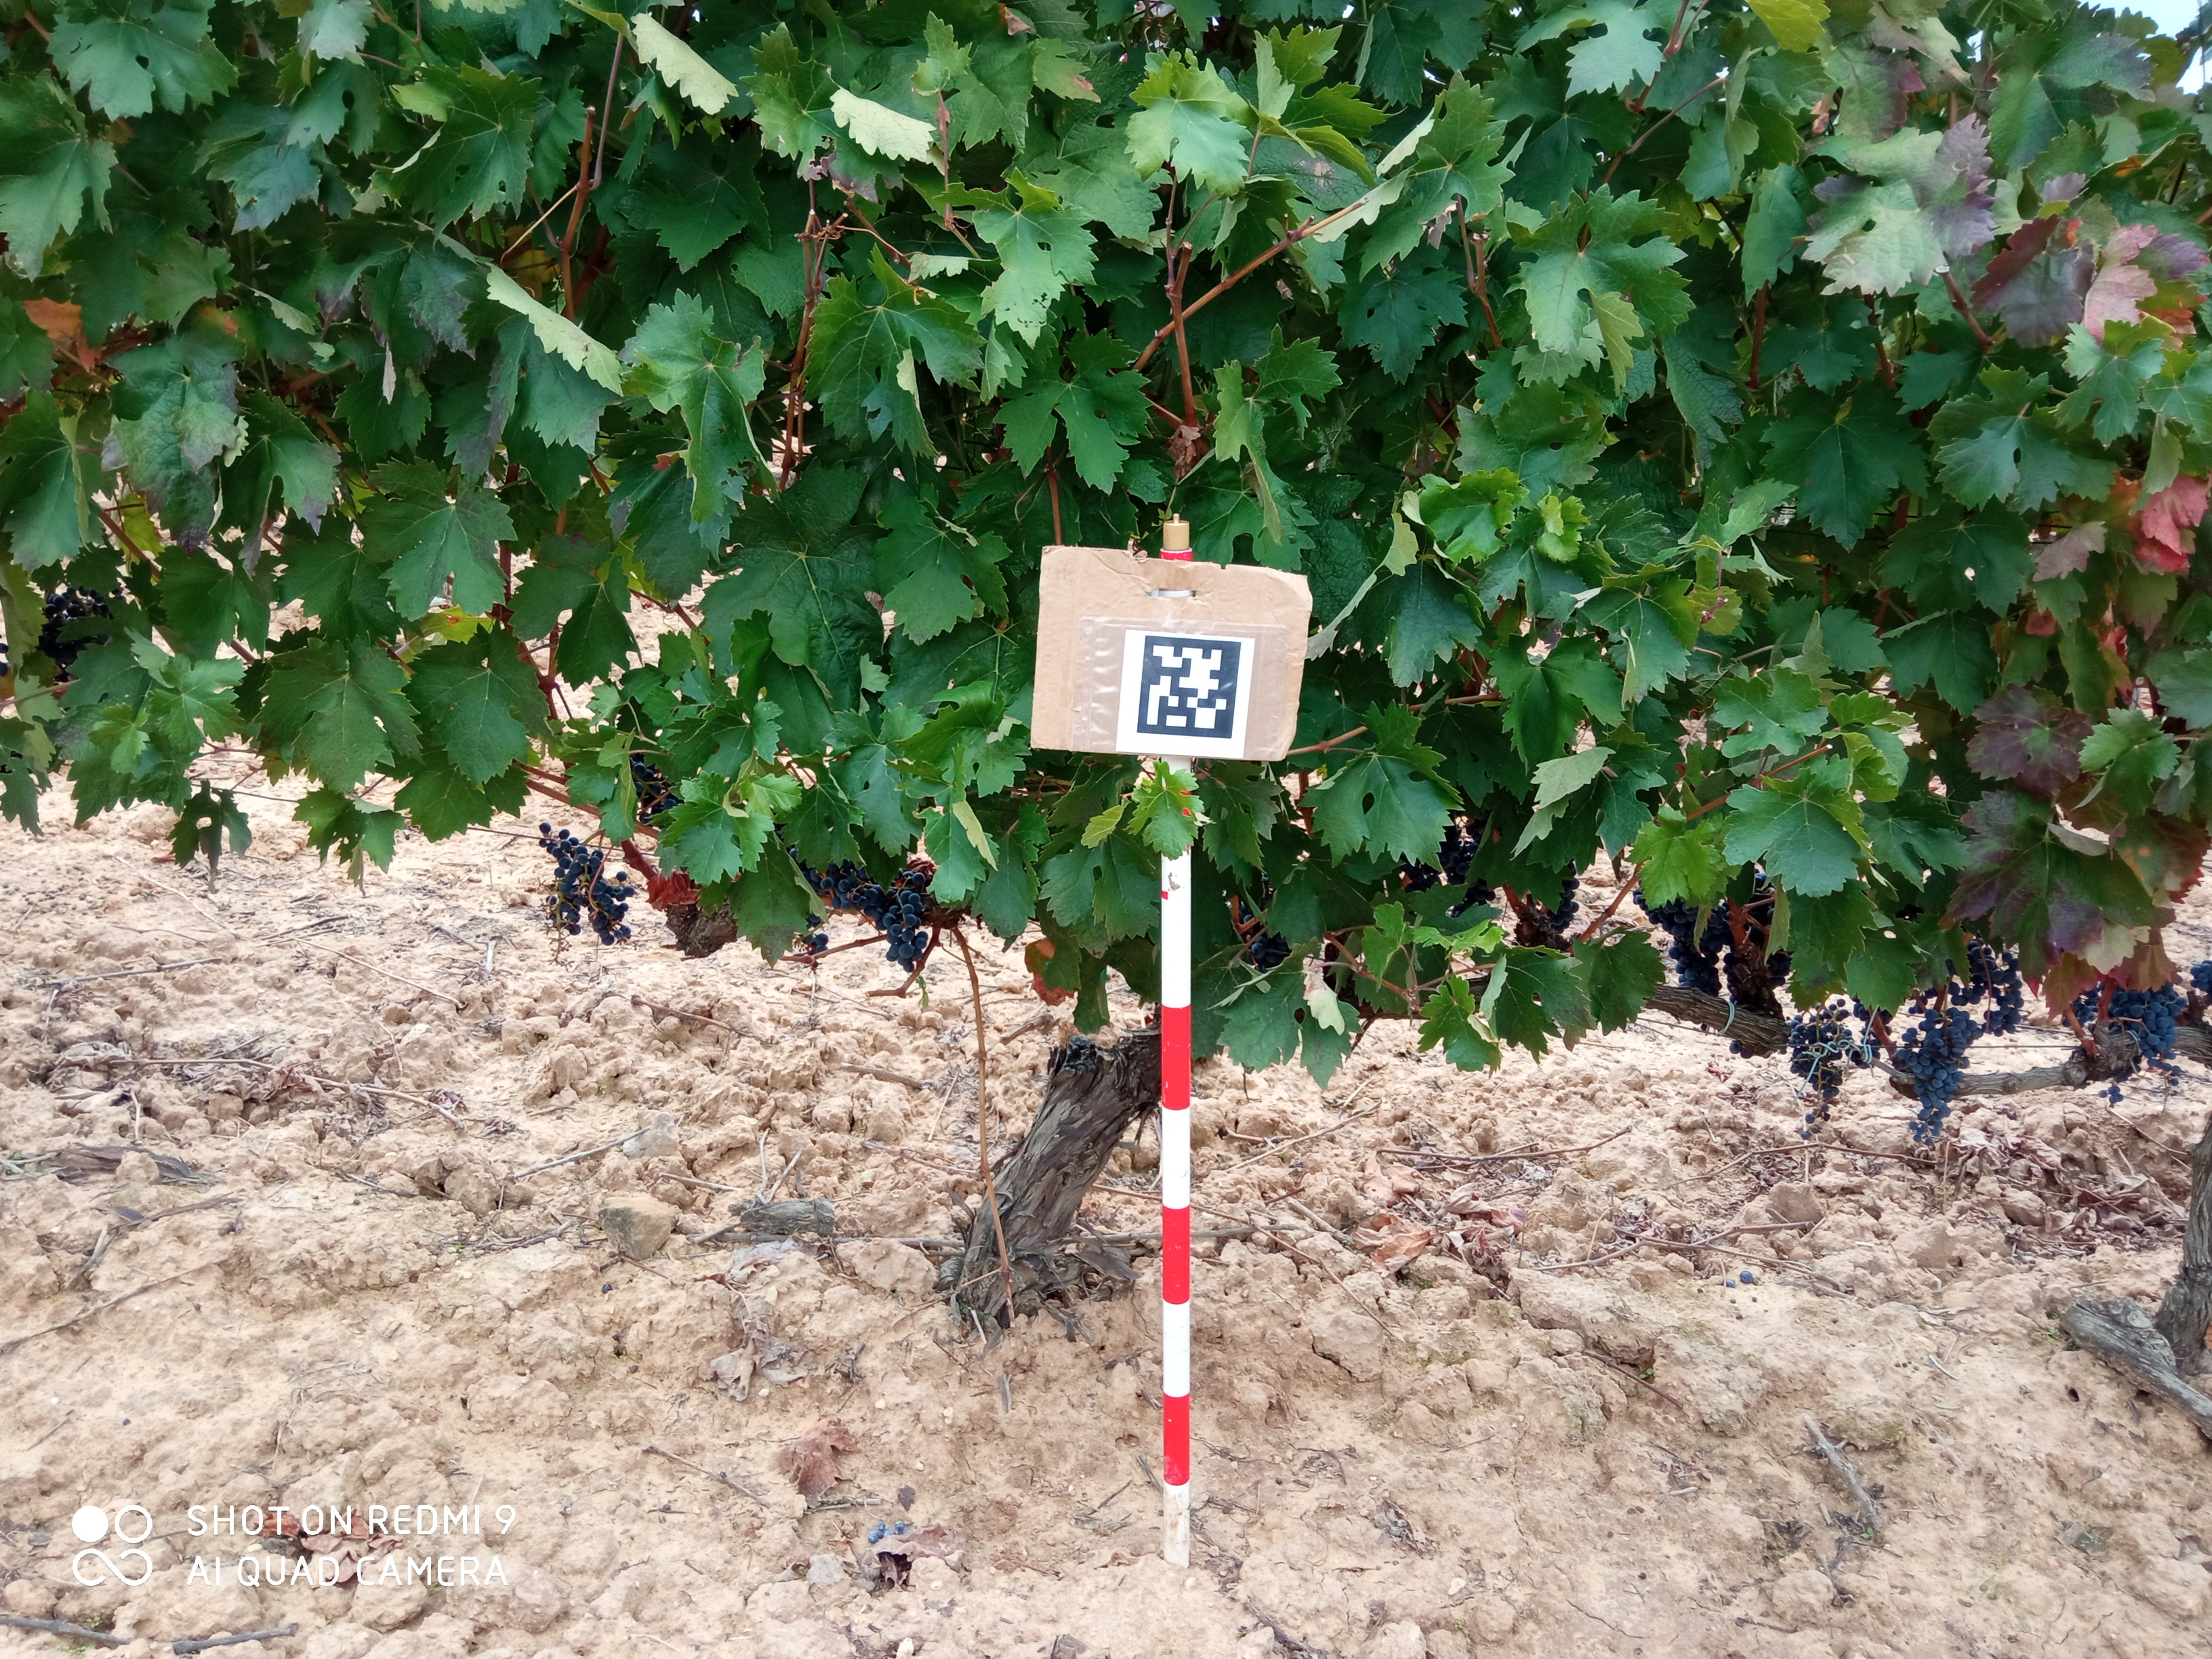grapes: (787, 847, 930, 974), (2059, 976, 2189, 1089), (536, 819, 637, 950), (1892, 1006, 1984, 1148), (1719, 863, 1792, 1021), (1632, 877, 1723, 1004), (1919, 936, 2029, 1040), (1399, 805, 1496, 918), (1784, 997, 1855, 1145), (35, 582, 125, 685), (627, 749, 685, 828), (1237, 890, 1291, 972), (1848, 992, 1895, 1073), (1547, 861, 1581, 936), (799, 911, 831, 960), (1726, 1035, 1766, 1061), (2188, 957, 2212, 995), (1893, 901, 1926, 925), (2095, 1084, 2127, 1105), (0, 633, 10, 678)
